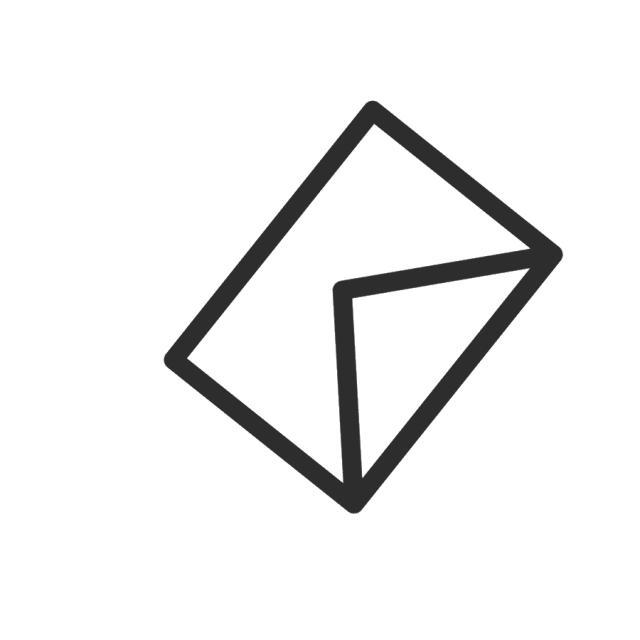letter: (156, 98, 568, 523)
